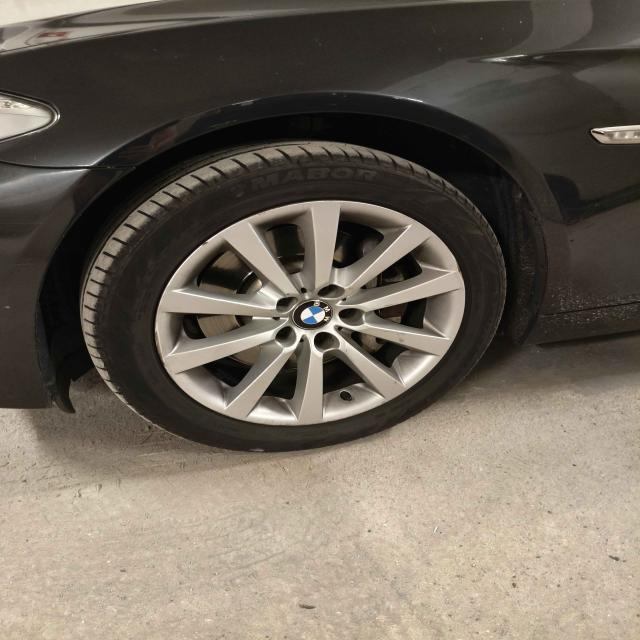jante: (154, 198, 468, 426)
parafuso: (268, 293, 300, 316), (316, 283, 345, 300), (336, 307, 362, 325), (313, 332, 338, 349), (273, 326, 295, 345)
roda: (76, 136, 508, 455)
